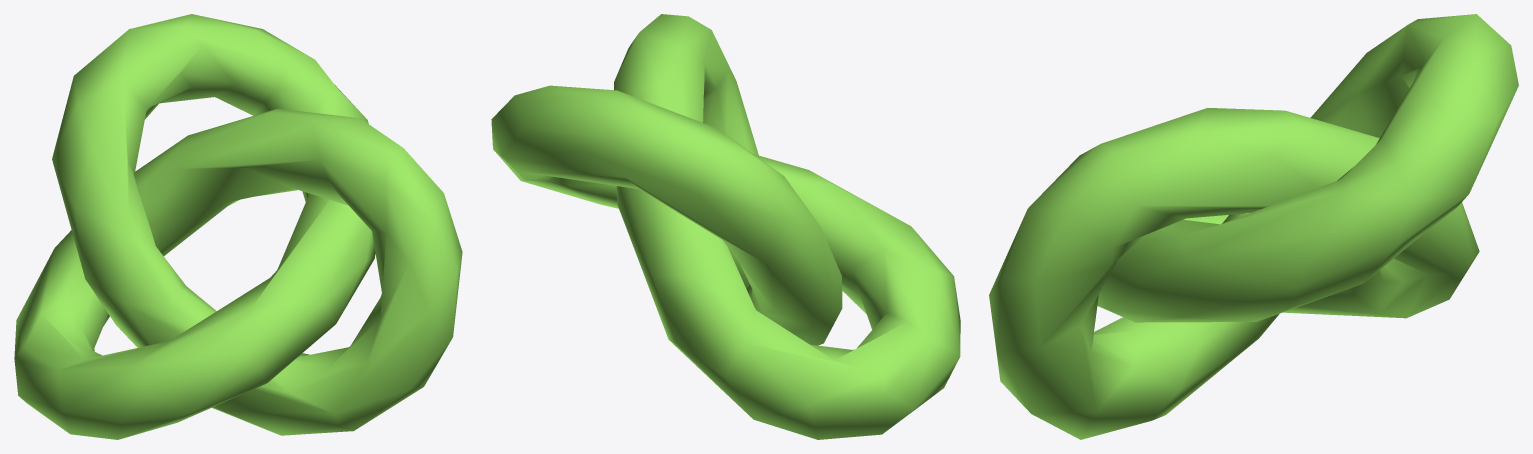
Rendered from knot_sculpture_knot003.gltf.
The picture shows the model from 3 angles, left to right: view 1: azimuth 30°, elevation 25°; view 2: azimuth 150°, elevation 25°; view 3: azimuth 270°, elevation 25°; orthographic projection. The views are drawn at different scales.
Visible parts, largest first — view 1: Knot.003; view 2: Knot.003; view 3: Knot.003.
Part boxes in pixels (left/top/right/bottom): Knot.003: left=14, top=14, right=462, bottom=439; Knot.003: left=491, top=14, right=960, bottom=439; Knot.003: left=989, top=14, right=1518, bottom=439.
Bounding box in the file's own units: 0.7786 × 0.6476 × 0.7959.
